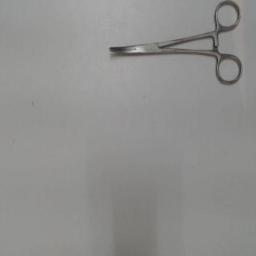Crile Artery Forceps: (102, 1, 248, 93)
